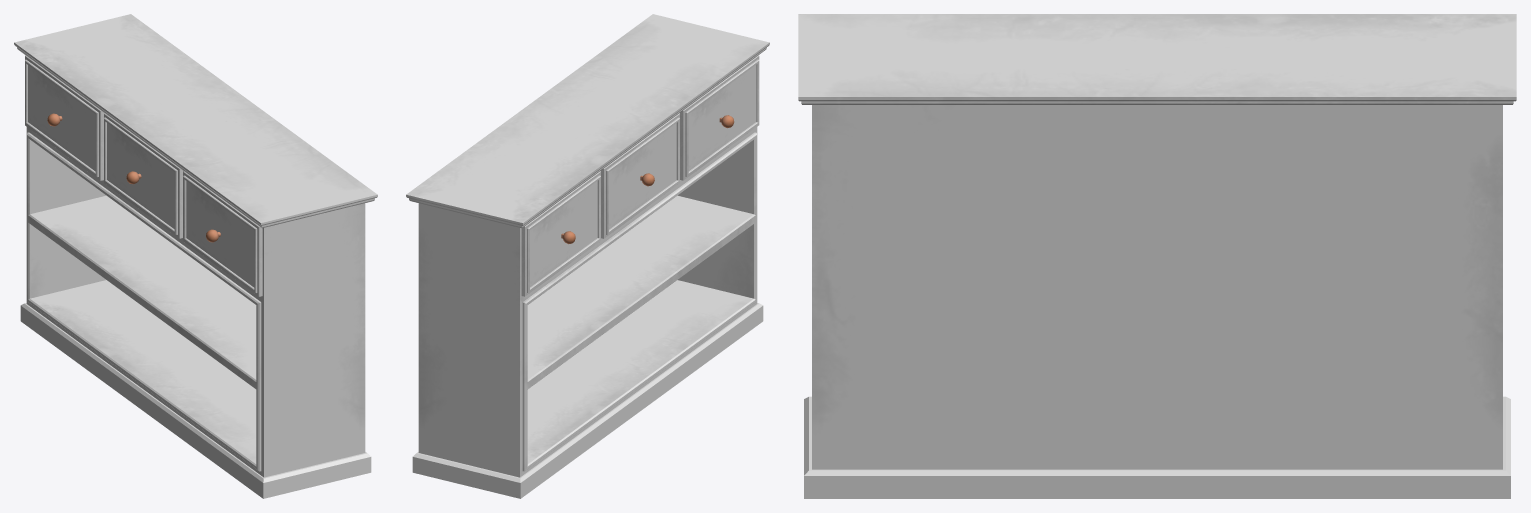
File: console.fbx
The picture shows the model from 3 angles, left to right: view 1: azimuth 30°, elevation 25°; view 2: azimuth 150°, elevation 25°; view 3: azimuth 270°, elevation 25°; orthographic projection. The views are drawn at different scales.
Parts seen in each view (by area): view 1: Cube.001; view 2: Cube.001; view 3: Cube.001.
Boxes of the visible parts, <box> form: Cube.001: <box>14,14,377,498</box>; Cube.001: <box>406,14,769,498</box>; Cube.001: <box>798,14,1516,498</box>.
Size of the model in its own units: 38.19 by 80.87 by 130.
